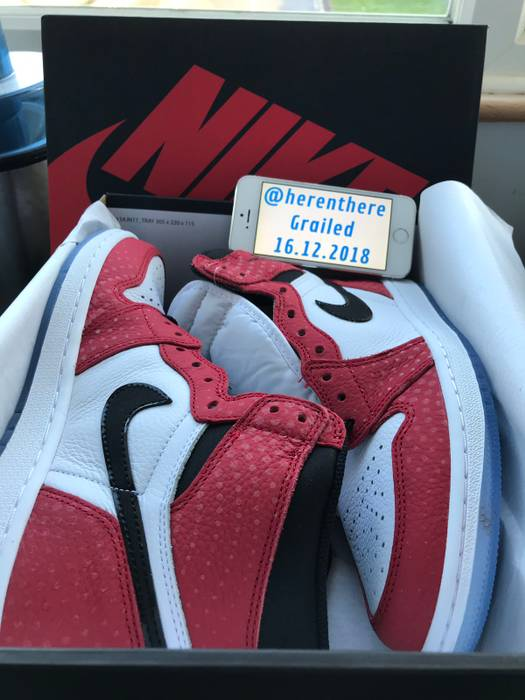Air Jordan 1 Spiderman: (1, 213, 357, 663), (159, 232, 517, 663)
